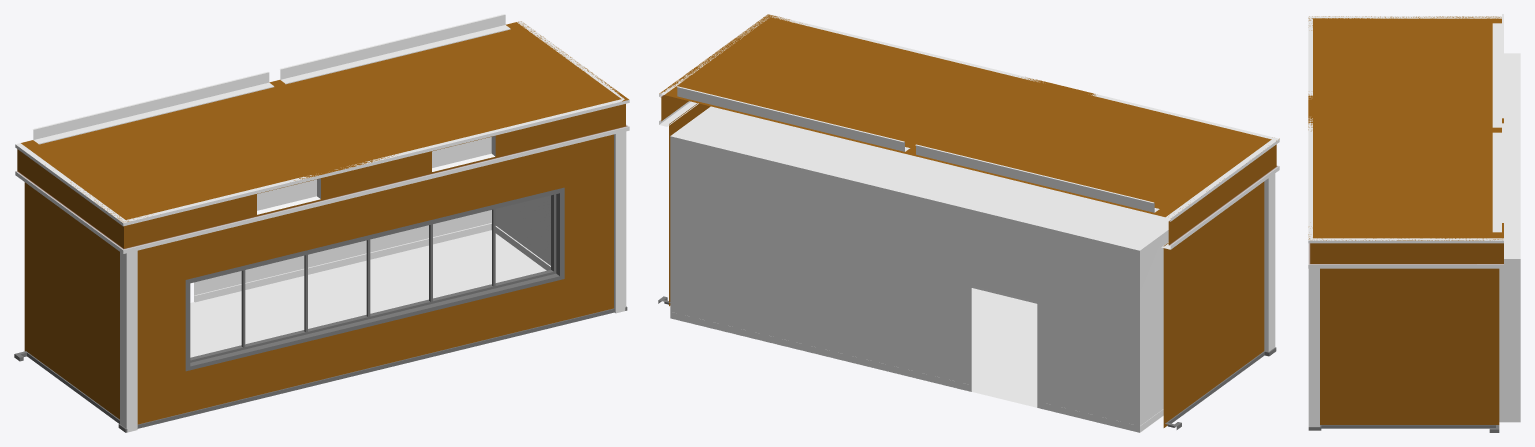
The model's file is SM_H_Building_Tide_HandlingRoom_02_ATLAS.fbx.
3 views of the same model, side by side, from view 1: azimuth 30°, elevation 25°; view 2: azimuth 150°, elevation 25°; view 3: azimuth 270°, elevation 25° (orthographic). The views are drawn at different scales.
Parts seen in each view (by area): view 1: SM_H_Building_Tide_HandlingRoom_02_ATLAS; view 2: SM_H_Building_Tide_HandlingRoom_02_ATLAS; view 3: SM_H_Building_Tide_HandlingRoom_02_ATLAS.
Boxes of the visible parts, box(x1,y1,x2,y2) form: SM_H_Building_Tide_HandlingRoom_02_ATLAS: box(14, 14, 629, 432); SM_H_Building_Tide_HandlingRoom_02_ATLAS: box(658, 14, 1279, 432); SM_H_Building_Tide_HandlingRoom_02_ATLAS: box(1308, 14, 1520, 432).
Size of the model in its own units: 1316 by 521 by 543.
